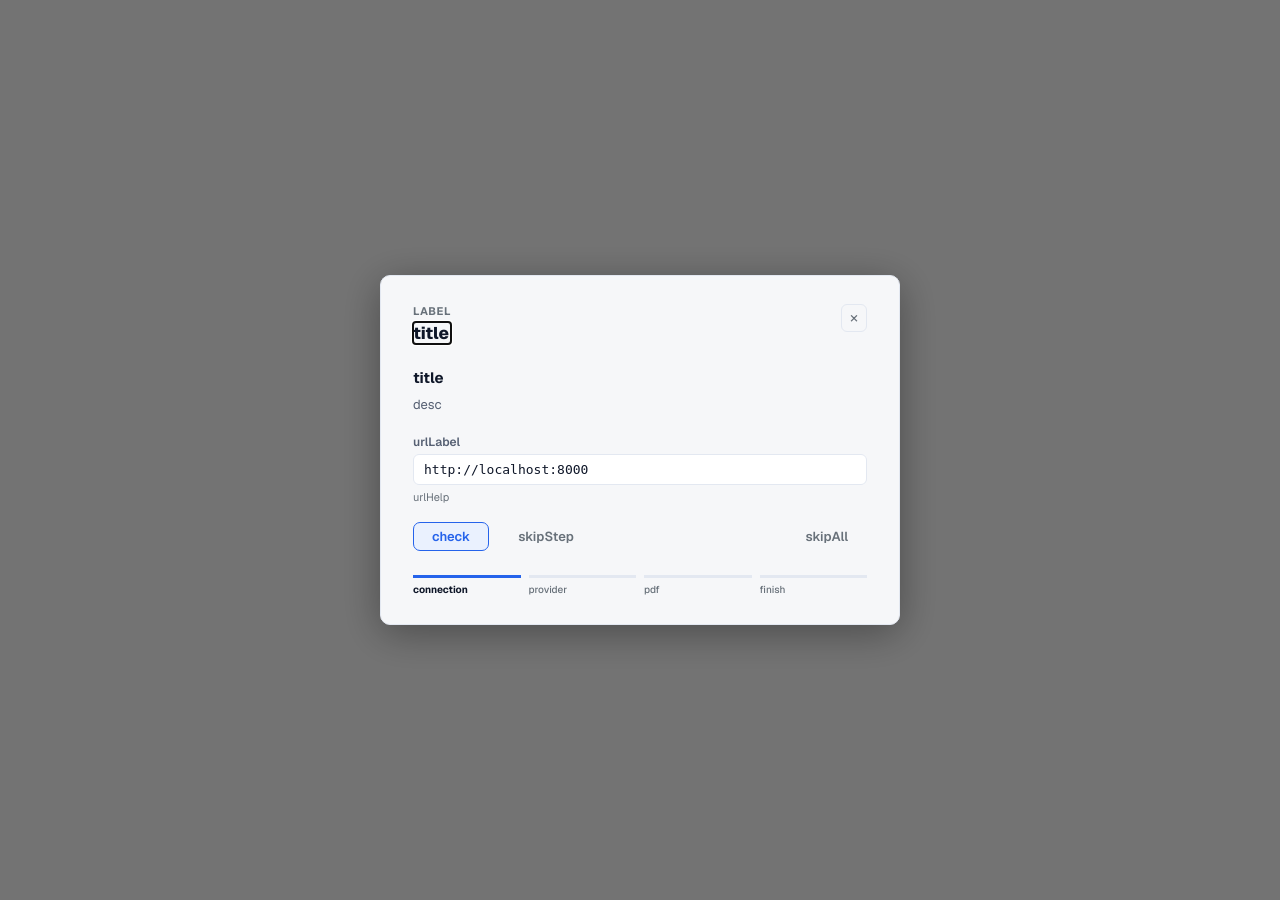
FirstRunWizard — step navigation › clicking Back on step 2 returns to step 1
Click the button with test id "wizard-step1-skip-check" at (546, 536), box [499,522,593,551]
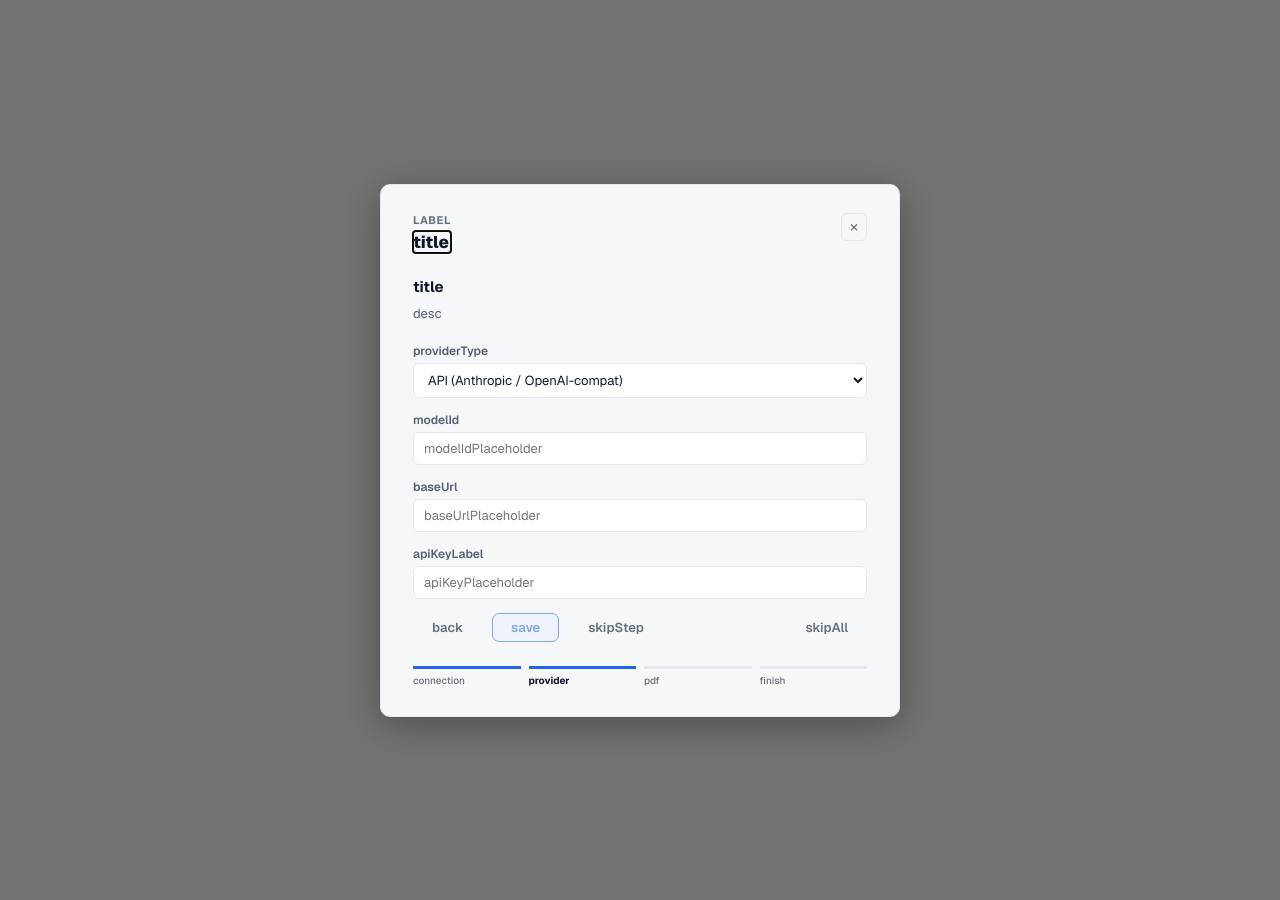
Expected: the dropdown with test id "wizard-step2-type" is shown, [413,363,867,398]
Click the button with test id "wizard-back" at (448, 628), box [413,613,482,642]
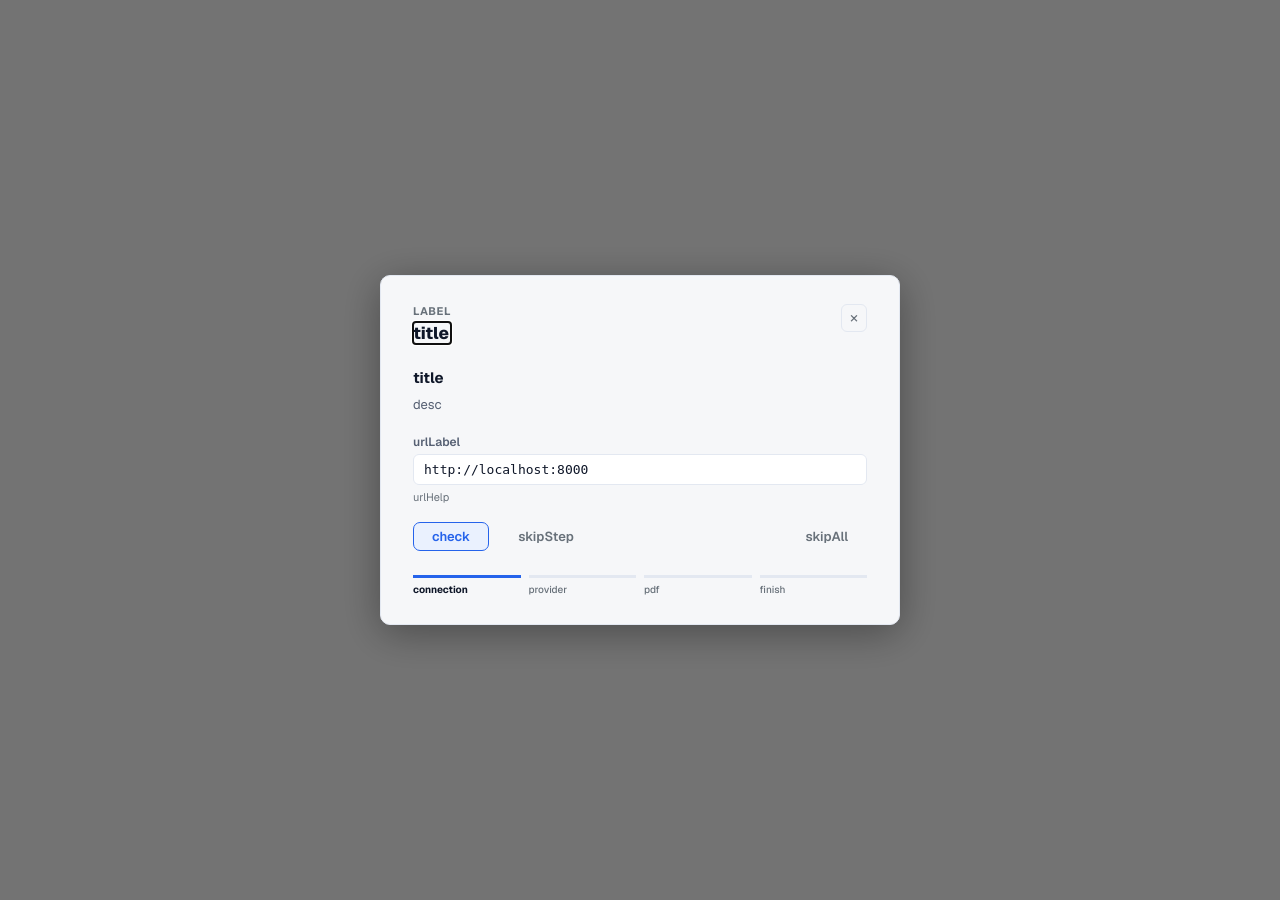
Expected: the button with test id "wizard-step1-check" is shown, [413,522,489,551]
